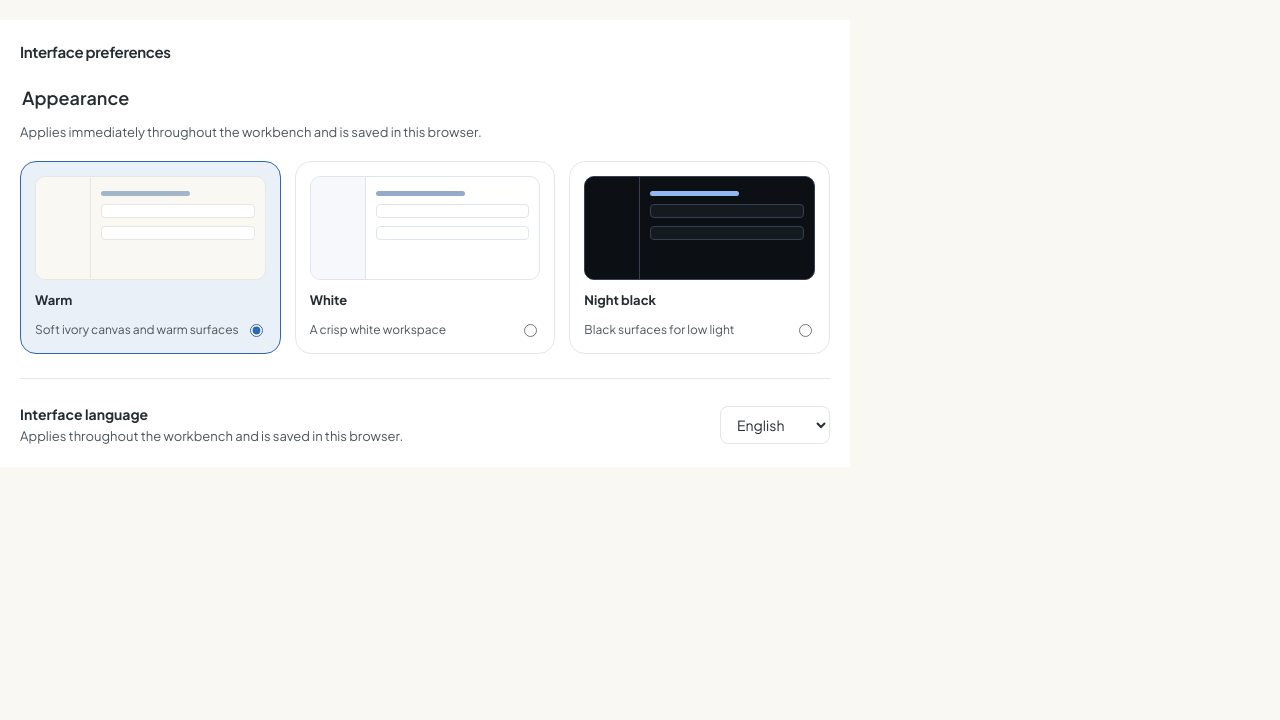
it: offers three accessible themes and supports keyboard switching
Expected: the element "Appearance" is shown, [20,84,830,354]
Expected: the radio button labelled "Warm" is checked, [250,324,263,337]
Click the radio button labelled "Night black".
click(806, 330)  # box [799,324,812,337]
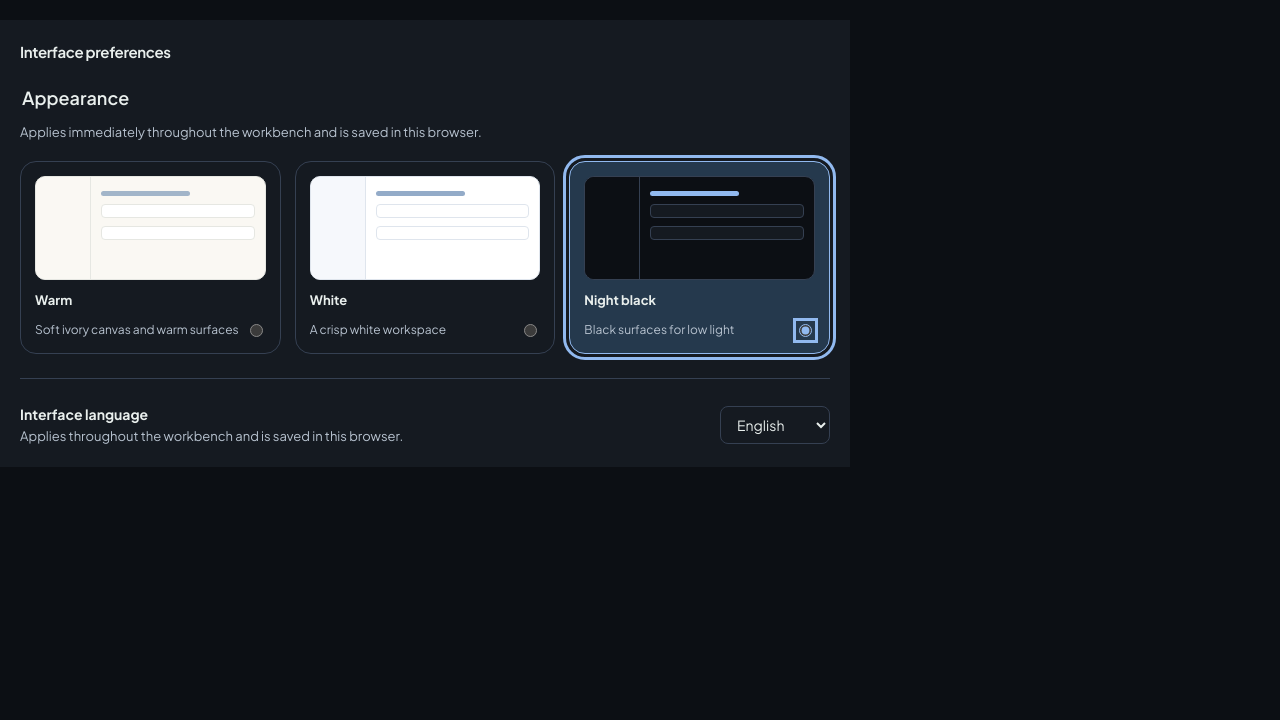
Expected: the radio button labelled "Night black" is checked, [799,324,812,337]
Press Arrowleft
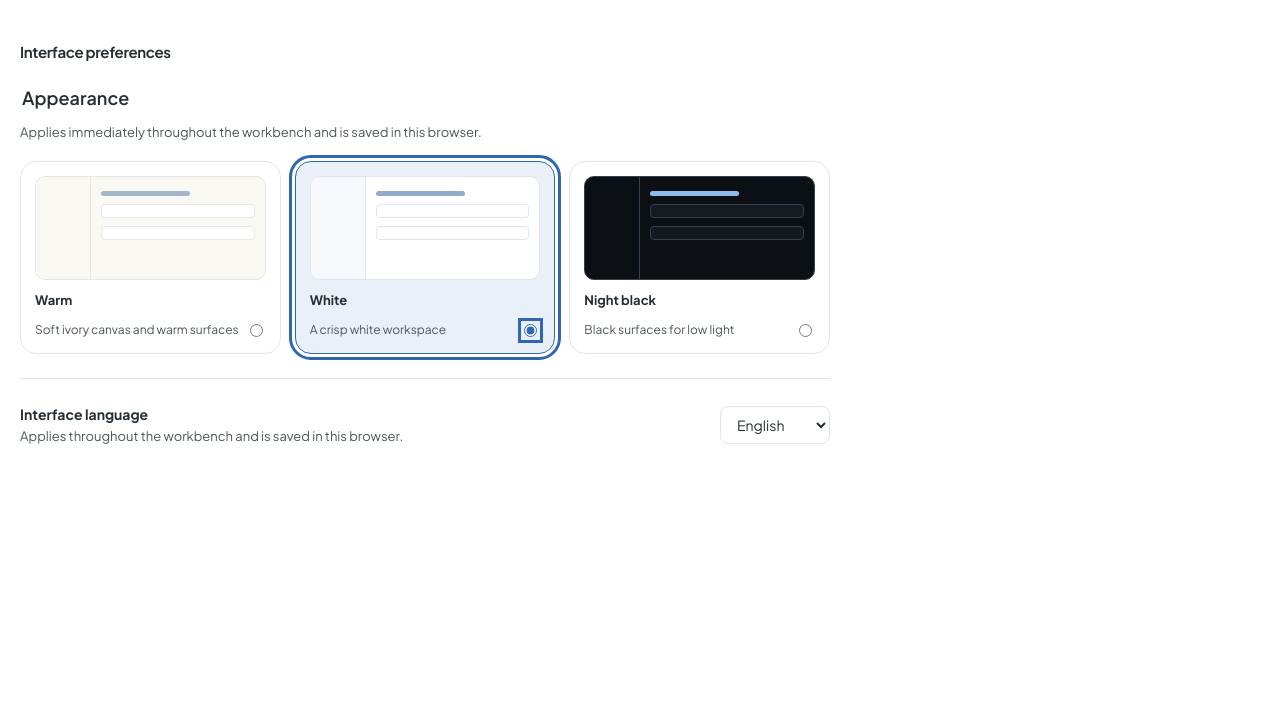
Expected: the radio button labelled "White" is checked, [524,324,537,337]
